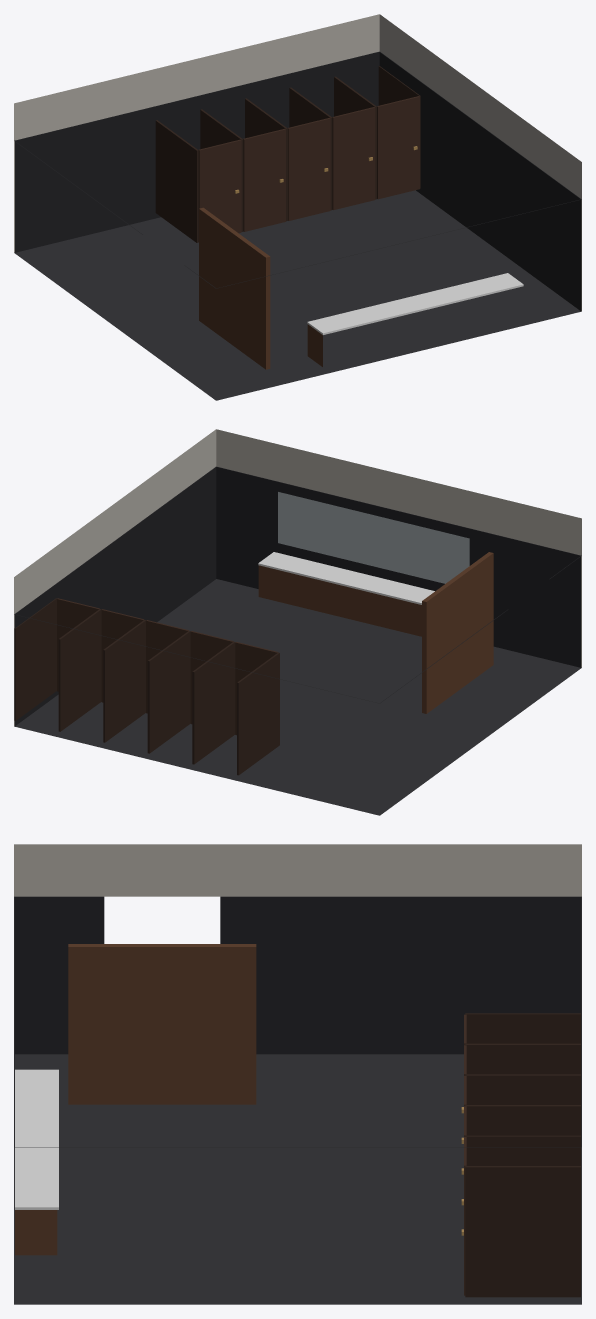
Rendered from wcF.glb.
3 views of the same model, one above another, from view 1: azimuth 30°, elevation 25°; view 2: azimuth 150°, elevation 25°; view 3: azimuth 270°, elevation 25° (orthographic). The views are drawn at different scales.
Parts seen in each view (by area): view 1: wcF; view 2: wcF; view 3: wcF.
Part boxes in pixels (box(x1,y1,x2,y2)): wcF: box(14, 14, 581, 400); wcF: box(14, 429, 581, 815); wcF: box(14, 844, 581, 1304).
Bounding box in the file's own units: 8.21 × 3.2 × 7.85.
